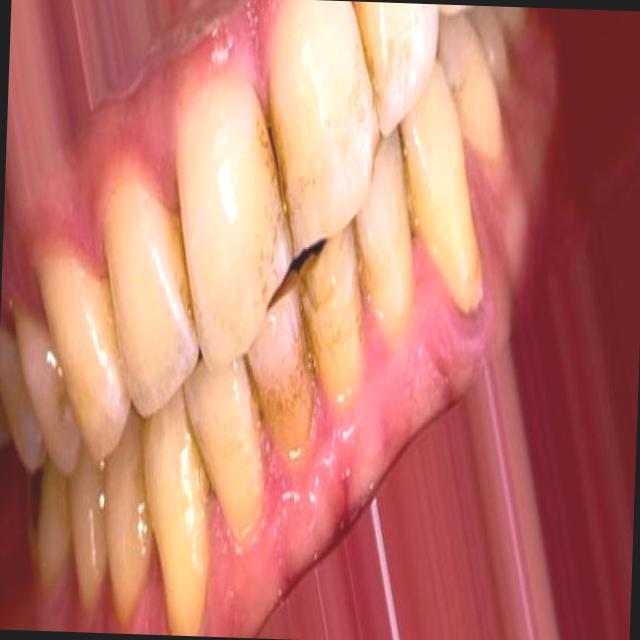calculus: (183, 55, 296, 353), (271, 0, 379, 232), (293, 226, 367, 427), (248, 273, 317, 475), (344, 148, 408, 338), (201, 342, 262, 517)
